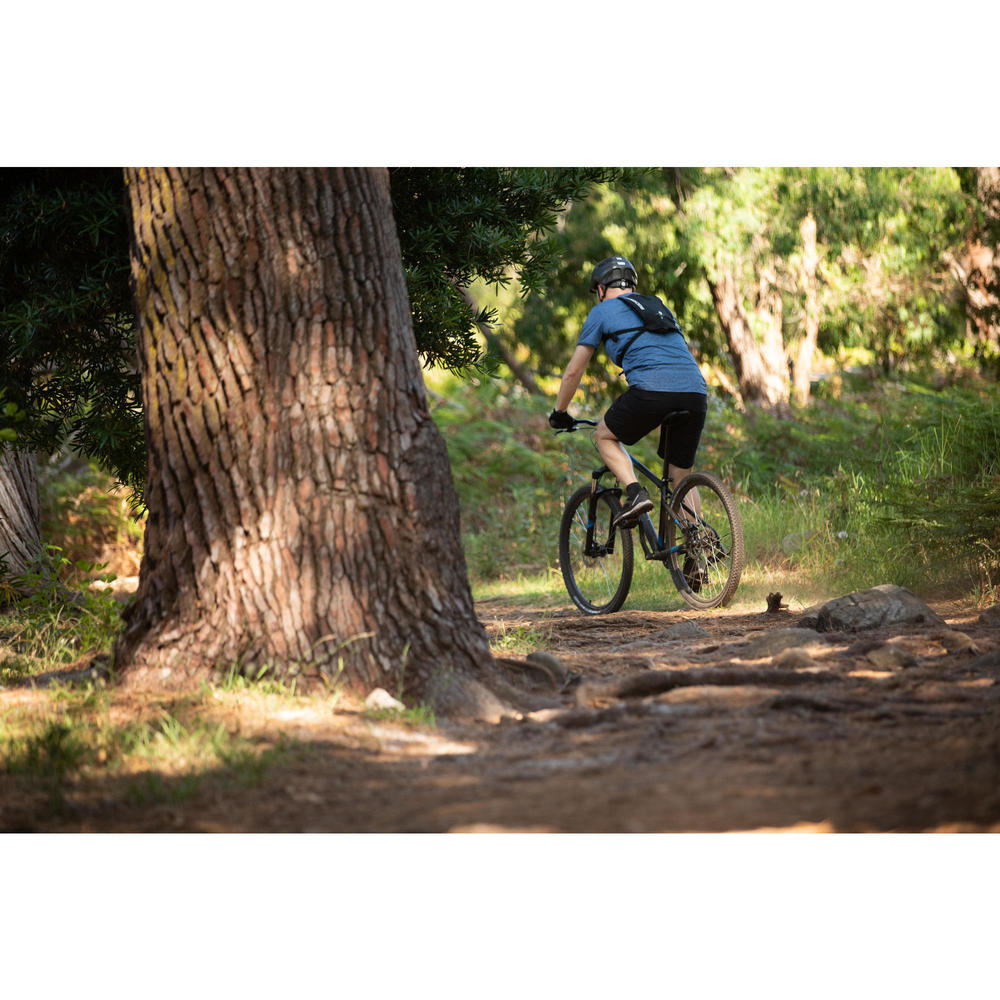MountainBike: (556, 414, 754, 616)
